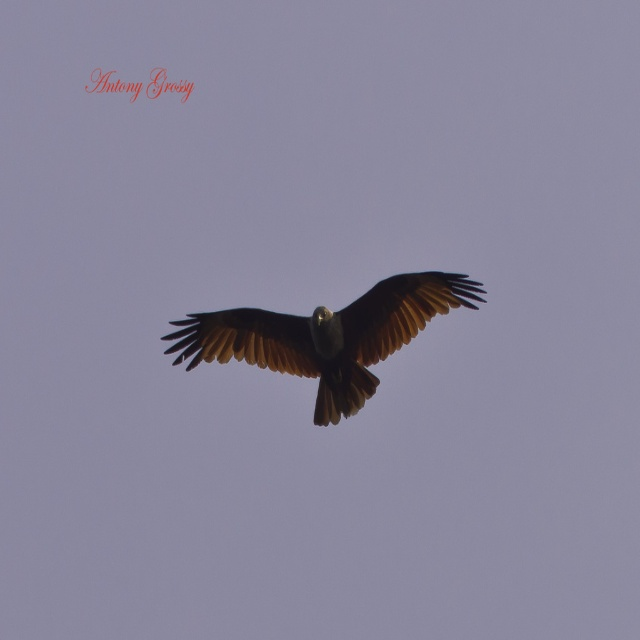Eagle: (157, 269, 490, 429)
